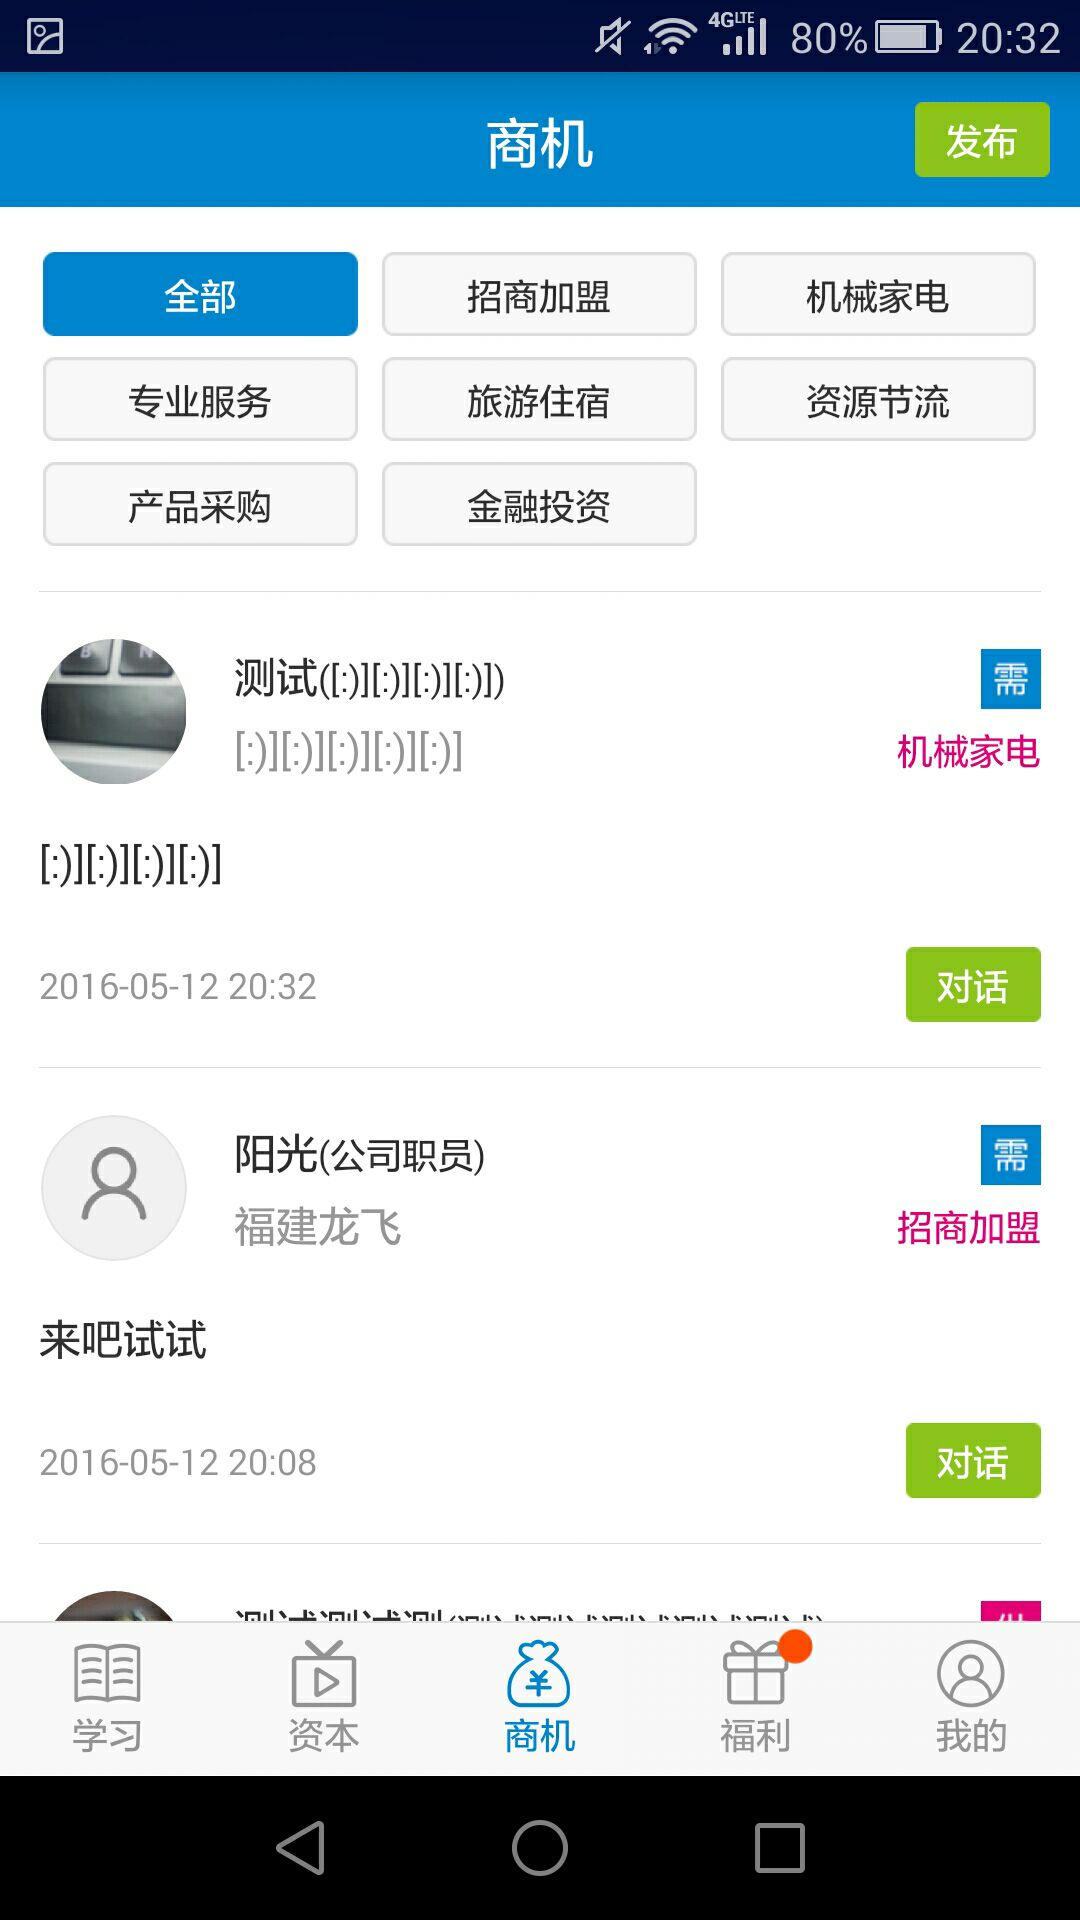button: (886, 931, 1058, 1033)
